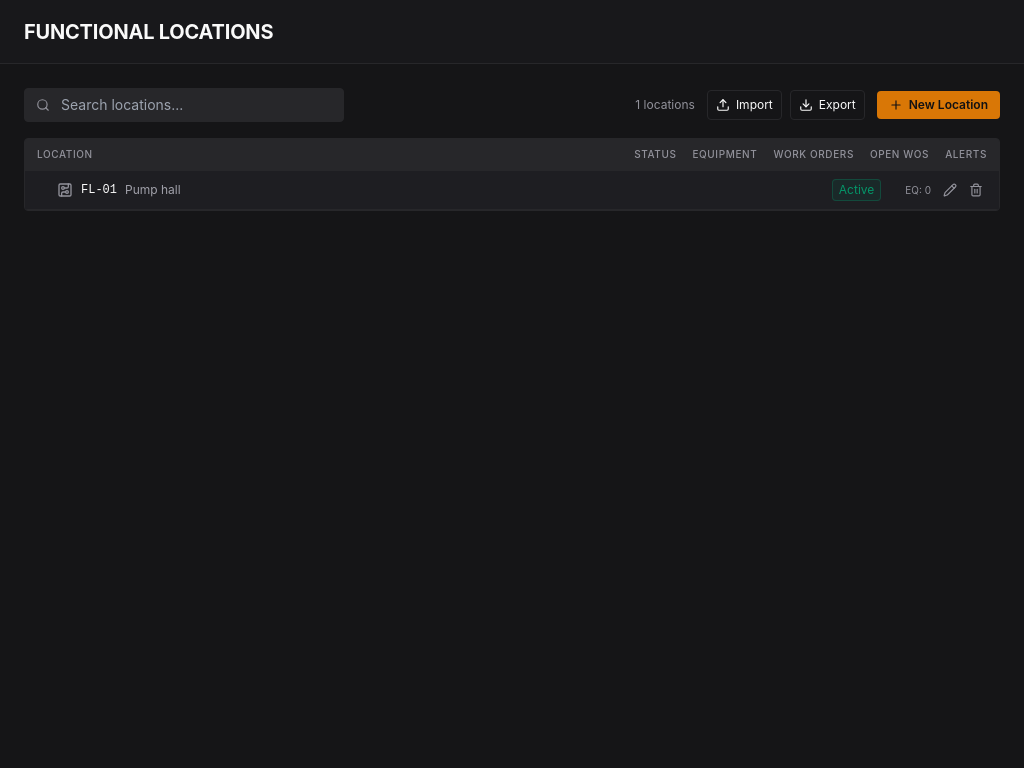
Test: LocationsPage functional-location CRUD (SOW 3.1.1) › edits a location, prefilling from the row
The width and height of the screenshot is (1024, 768).
Click the button named "edit fl-01" at coordinates (950, 190), box [939,179,961,201]
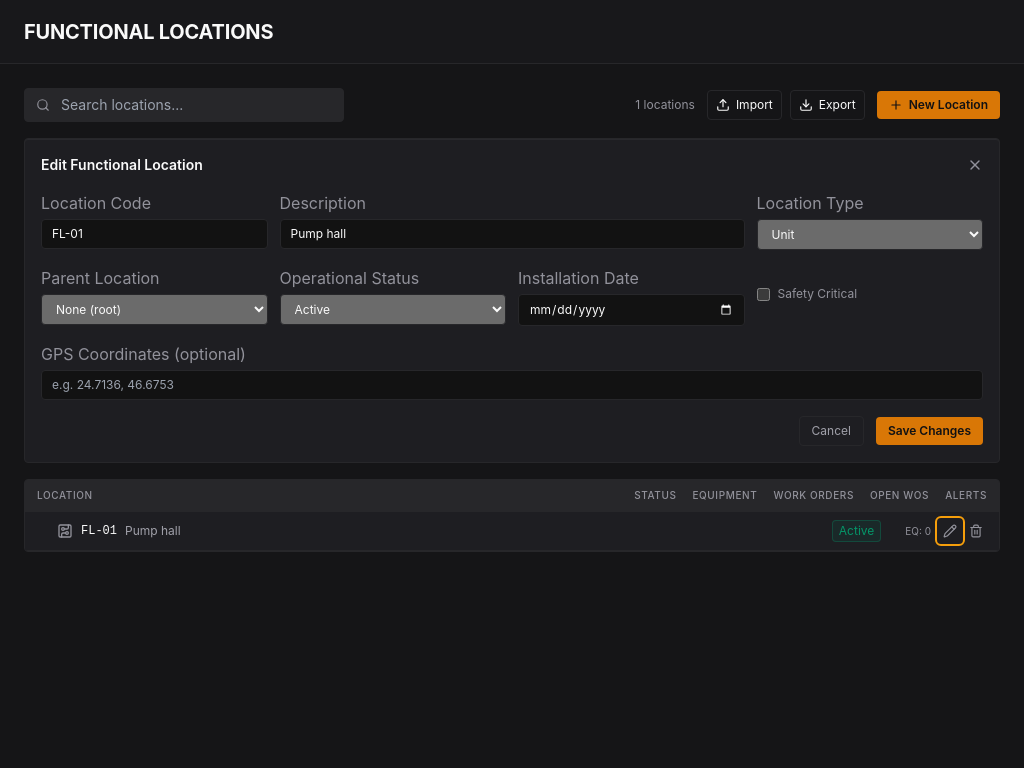
Check: the field labelled "Location Code" holds "FL-01", box [41,219,268,249]
Check: the field labelled "Description" holds "Pump hall"
Replace the text in the field labelled "Description" with "Pump hall (renamed)" at coordinates (512, 234), box [280,219,744,249]
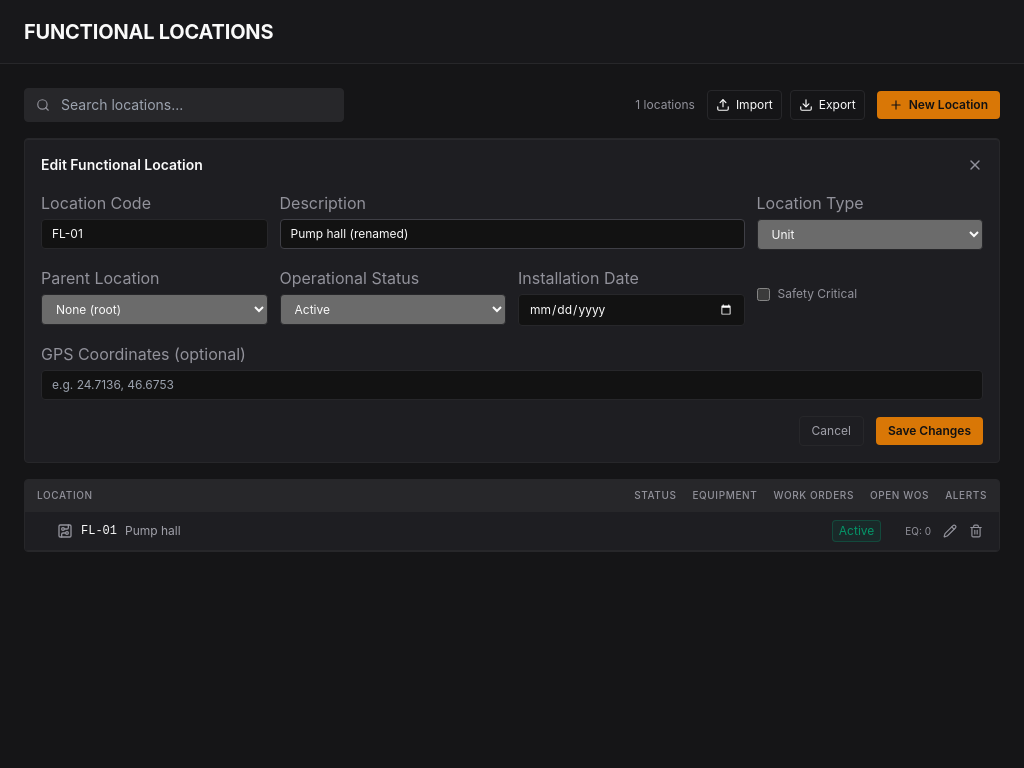
Click the button "Save Changes" at coordinates (929, 431), box [876,417,983,445]
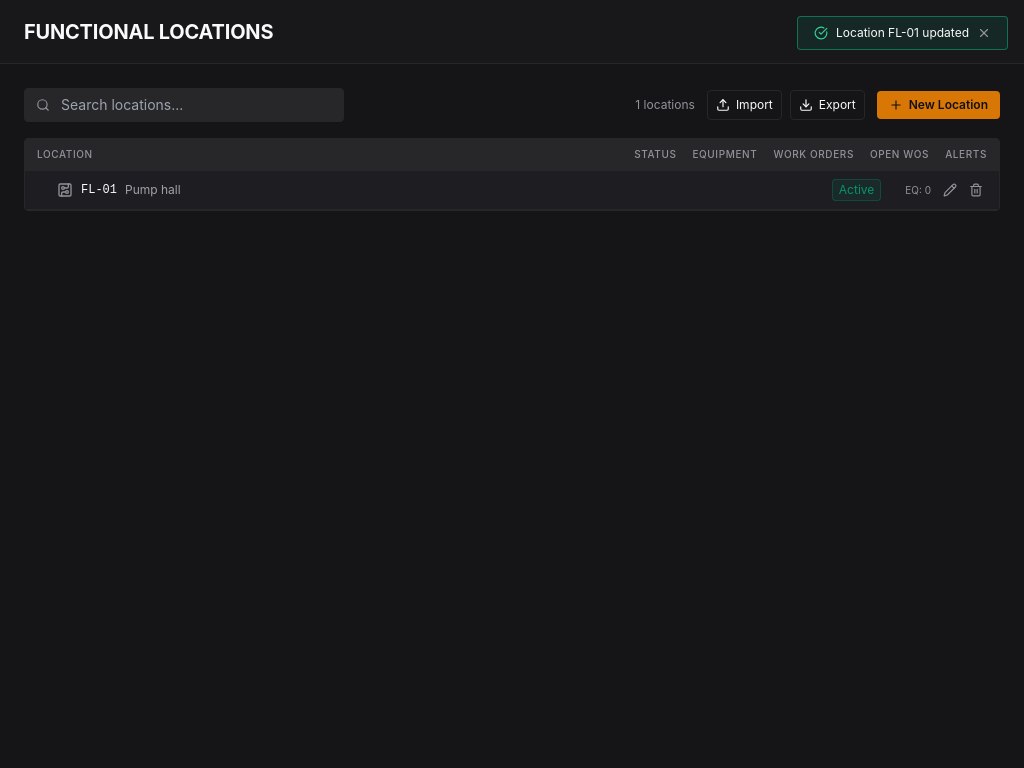
Check: the text "Location FL-01 updated" is shown, box [836,25,969,41]
